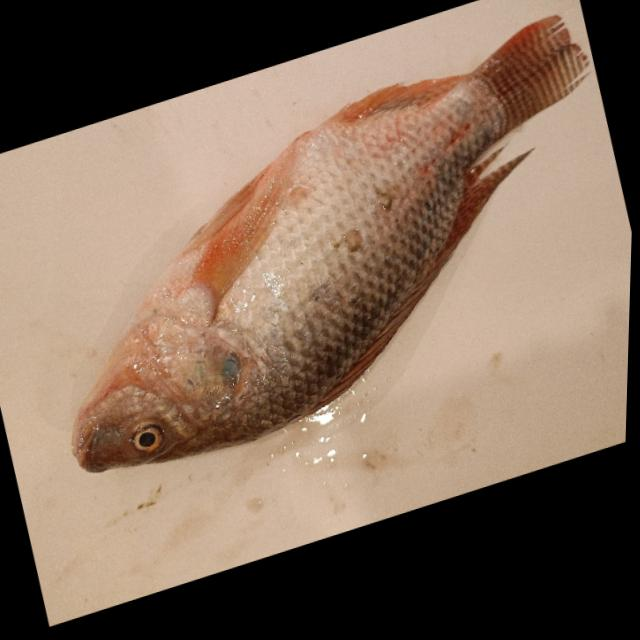Tilapia: (5, 0, 639, 497)
